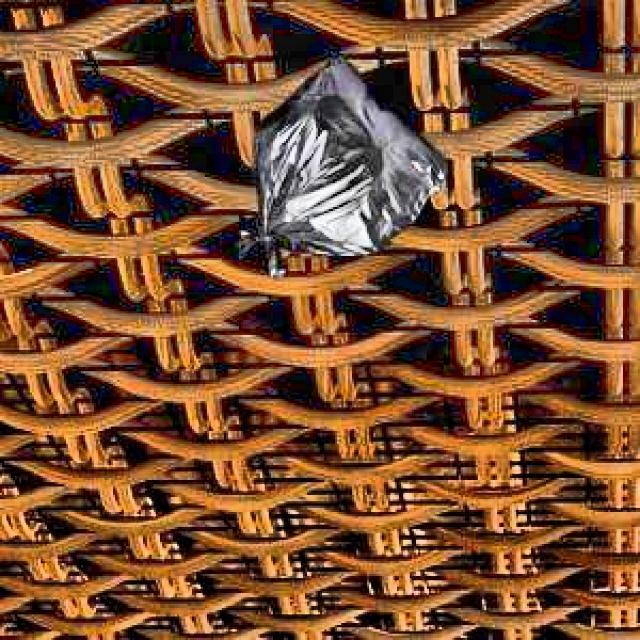Trashbag: (221, 34, 458, 292)
